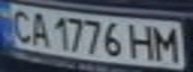1: (48, 13, 69, 51)
6: (103, 19, 127, 57)
7: (81, 17, 106, 55), (63, 16, 84, 53)
A: (24, 10, 51, 47)
C: (6, 7, 36, 44)
H: (127, 21, 160, 61)
M: (148, 24, 184, 62)
